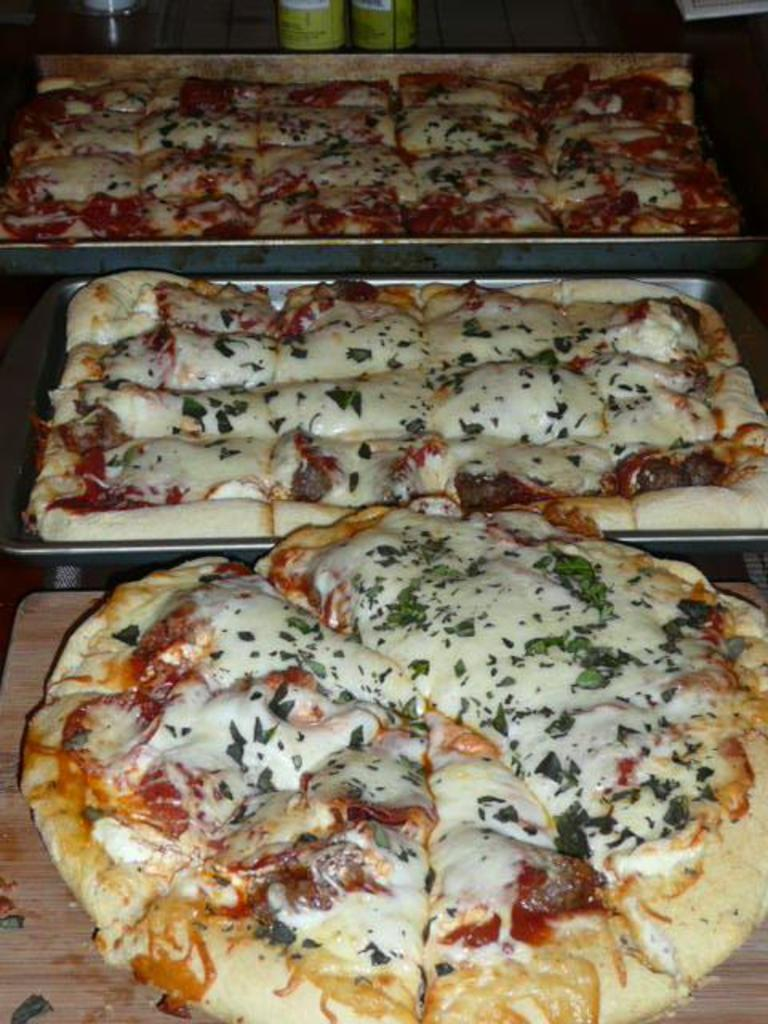Pizza: (17, 505, 766, 1022), (17, 263, 766, 536), (0, 73, 747, 233)
